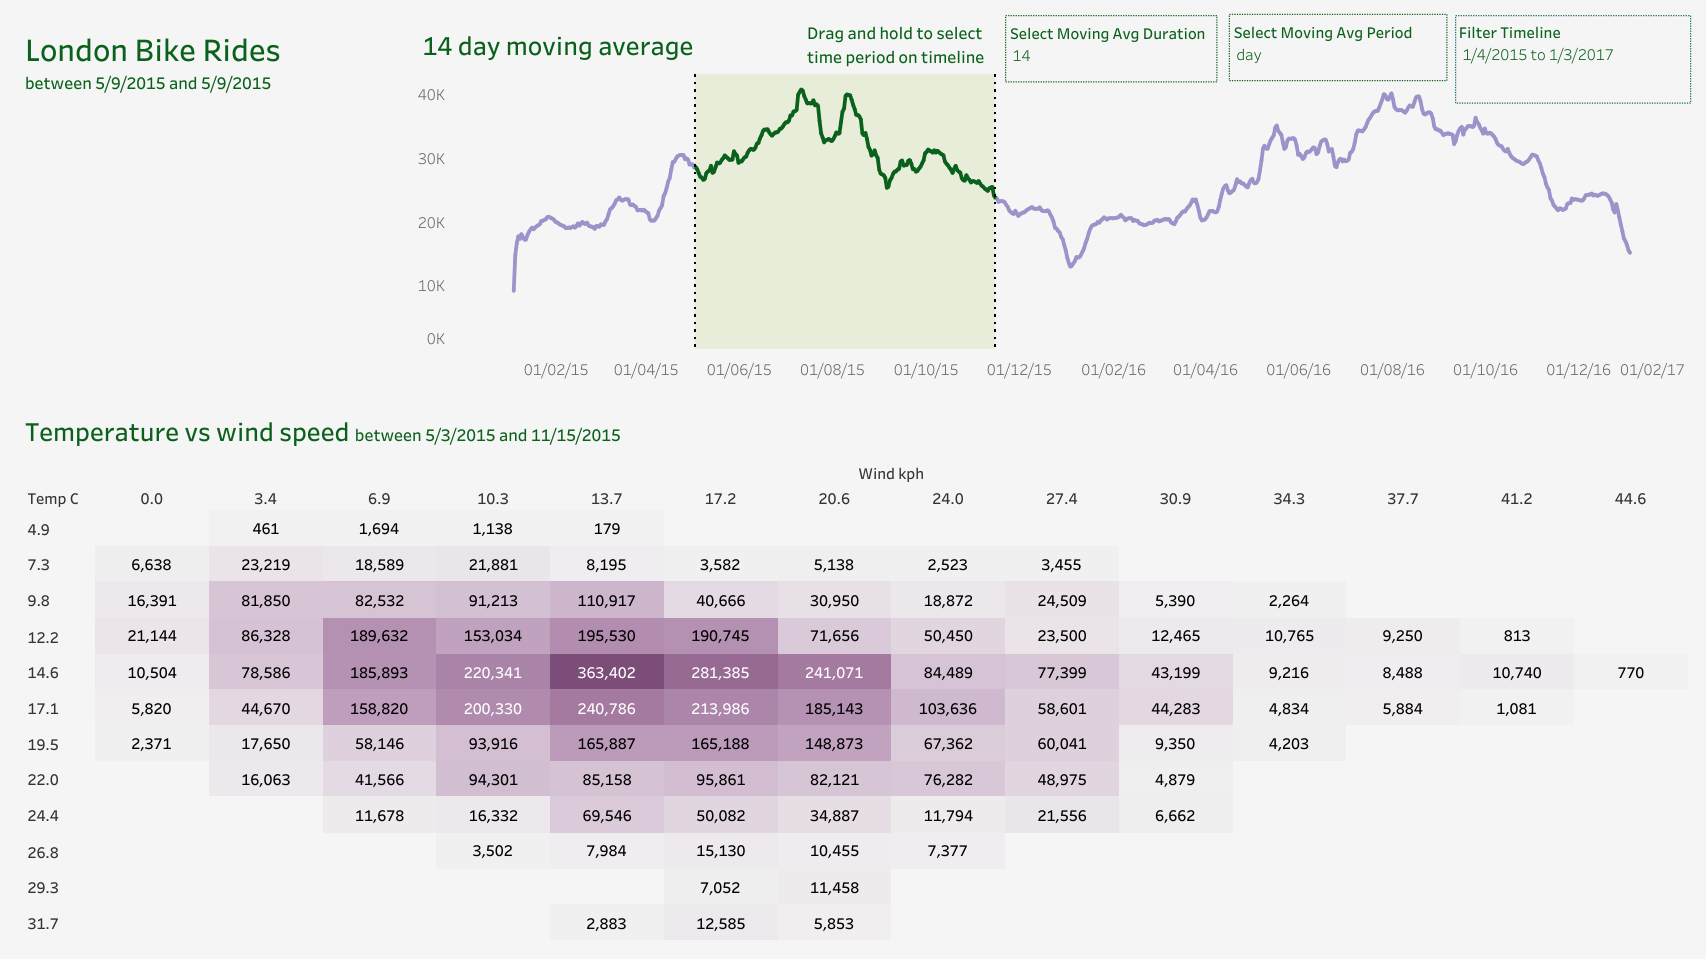

Layout of this report page (visuals, bound fields, positions):
{"tool":"tableau","page":{"name":"Dashboard","canvas":[1000,1000],"units":"permille","ordinal":0},"visuals":[{"type":"parameter","param":"[Parameters].[Parameter 3]","box":[716.7,9.1,134,80.7]},{"type":"worksheet","title":"TotalRides","mark":"Automatic","box":[4.7,9.4,233.3,403.2]},{"type":"worksheet","title":"MovingAverage","mark":"Automatic","rows":["Calculation1"],"cols":["Calculation_2560859404833579008"],"box":[238,9.4,757.3,403.2]},{"type":"parameter","param":"[Parameters].[Parameter 2]","box":[585.6,10.4,130.3,80.7]},{"type":"filter","title":"MovingAverage","param":"[federated.1btkpv91oruoe61fz4cnm1lloes8].[none:Calculation_2560859404833579008:q","box":[850.7,13,141.3,97.7]},{"type":"text","box":[467.8,15.6,116.4,59.9]},{"type":"worksheet","title":"Heatmap","mark":"Square","rows":["temp real C (bin)"],"cols":["Wind Speed Kph (bin)"],"box":[4.7,412.6,990.6,578]}]}

Visuals, with their boxes on the dashboard's canvas, which has no fixed pixel size, in thousandths of its width and height (x1, y1, x2, y2). These are canvas units, not pixel positions in the 1706x959 screenshot, which may show the page scaled, cropped or inside an application window:
parameter: bbox=[717, 9, 851, 90]
"TotalRides" worksheet: bbox=[5, 9, 238, 413]
"MovingAverage" worksheet: bbox=[238, 9, 995, 413]
parameter: bbox=[586, 10, 716, 91]
"MovingAverage" filter: bbox=[851, 13, 992, 111]
text: bbox=[468, 16, 584, 76]
"Heatmap" worksheet (Square marks): bbox=[5, 413, 995, 991]
